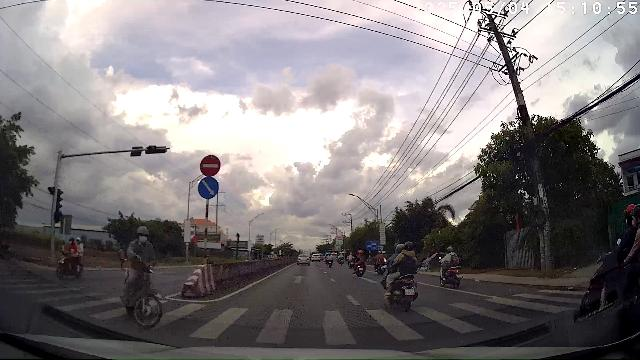102-cam-di-nguoc-chieu: (200, 154, 221, 176)
302a-huong-phai-di-vong-chuong-ngai-vat-1: (198, 176, 219, 200)
